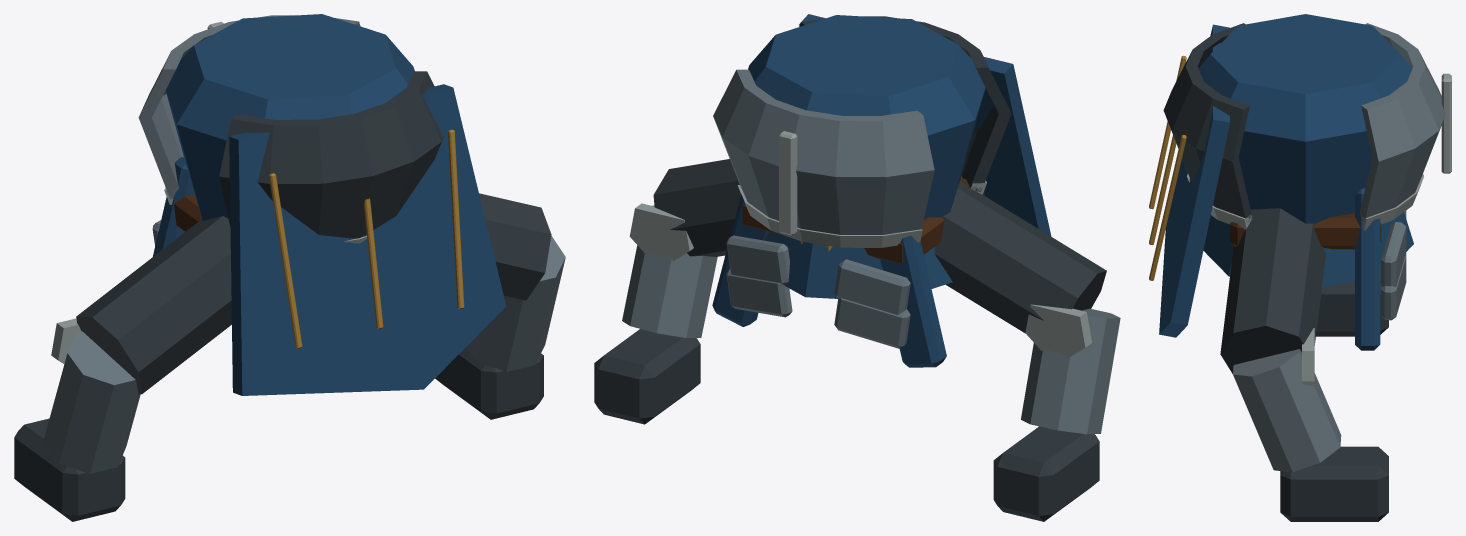
The model's file is Rider.glb.
3 views of the same model, side by side, from view 1: azimuth 30°, elevation 25°; view 2: azimuth 150°, elevation 25°; view 3: azimuth 270°, elevation 25° (orthographic). The views are drawn at different scales.
Visible parts, largest first — view 1: Sculpture; view 2: Sculpture; view 3: Sculpture.
Boxes of the visible parts, <box> form: Sculpture: <box>14,14,565,521</box>; Sculpture: <box>594,14,1120,521</box>; Sculpture: <box>1149,14,1451,521</box>.
Bounding box in the file's own units: 1.32 × 1.04 × 0.781.
